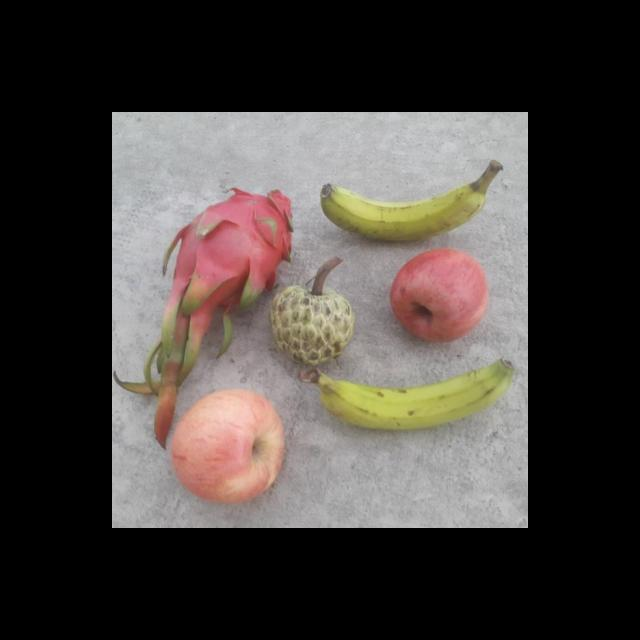Sakya fruit: (269, 278, 353, 366)
apple: (170, 388, 288, 506), (390, 248, 490, 346)
banana: (302, 358, 512, 435), (318, 158, 501, 242)
pitaya: (162, 185, 296, 322)
